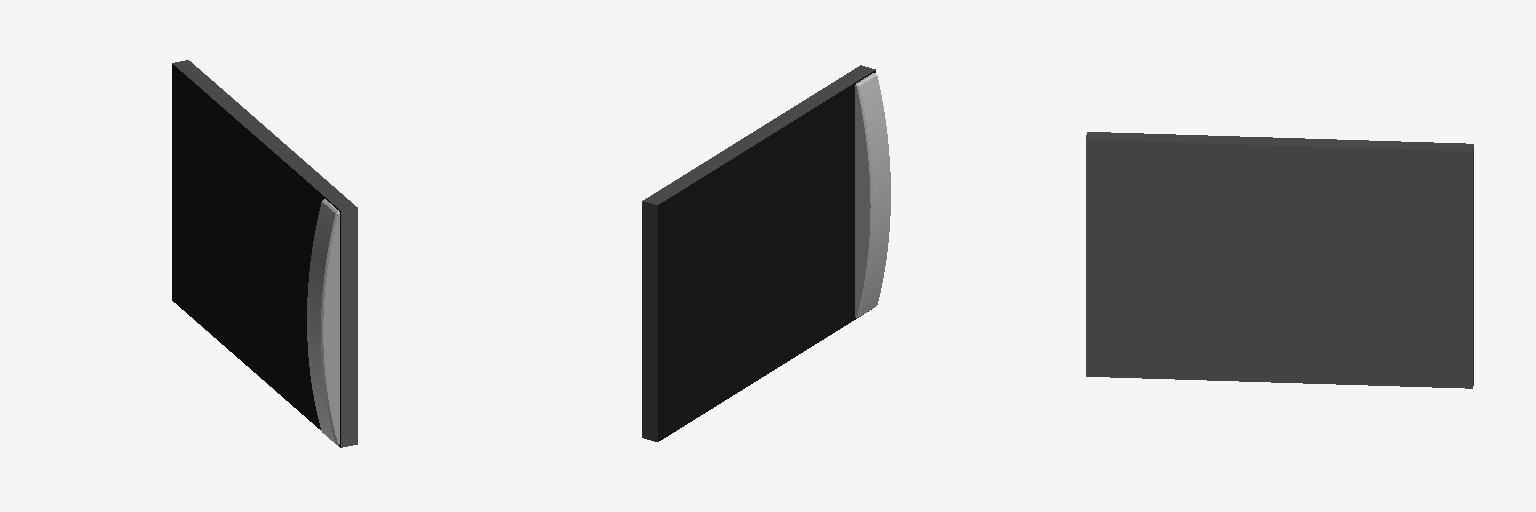
The model's file is microwave.obj.
The picture shows the model from 3 angles: view 1: azimuth 30°, elevation 25°; view 2: azimuth 150°, elevation 25°; view 3: azimuth 270°, elevation 25°; orthographic projection.
Visible parts, largest first — view 1: Mesh2 puerta_microondas G_5_Objetos_Habitaci_n_1 Model, Mesh1 Component_16_1 puerta_microondas G_5_Objetos_Habitaci_n_1 ; view 2: Mesh2 puerta_microondas G_5_Objetos_Habitaci_n_1 Model, Mesh1 Component_16_1 puerta_microondas G_5_Objetos_Habitaci_n_1 ; view 3: Mesh2 puerta_microondas G_5_Objetos_Habitaci_n_1 Model.
Boxes of the visible parts, <box> form: Mesh2 puerta_microondas G_5_Objetos_Habitaci_n_1 Model: <box>172,60,357,447</box>; Mesh1 Component_16_1 puerta_microondas G_5_Objetos_Habitaci_n_1 : <box>307,199,339,444</box>; Mesh2 puerta_microondas G_5_Objetos_Habitaci_n_1 Model: <box>642,65,875,441</box>; Mesh1 Component_16_1 puerta_microondas G_5_Objetos_Habitaci_n_1 : <box>855,73,890,317</box>; Mesh2 puerta_microondas G_5_Objetos_Habitaci_n_1 Model: <box>1086,132,1473,388</box>.
Bounding box in the file's own units: 0.0754 × 0.294 × 0.4366.